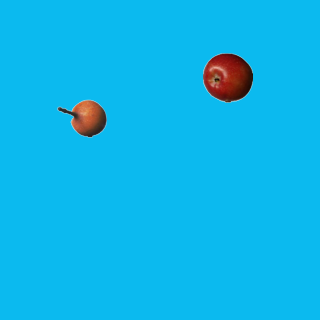Apple Braeburn: (202, 52, 252, 102)
Granadilla: (56, 93, 106, 143)
